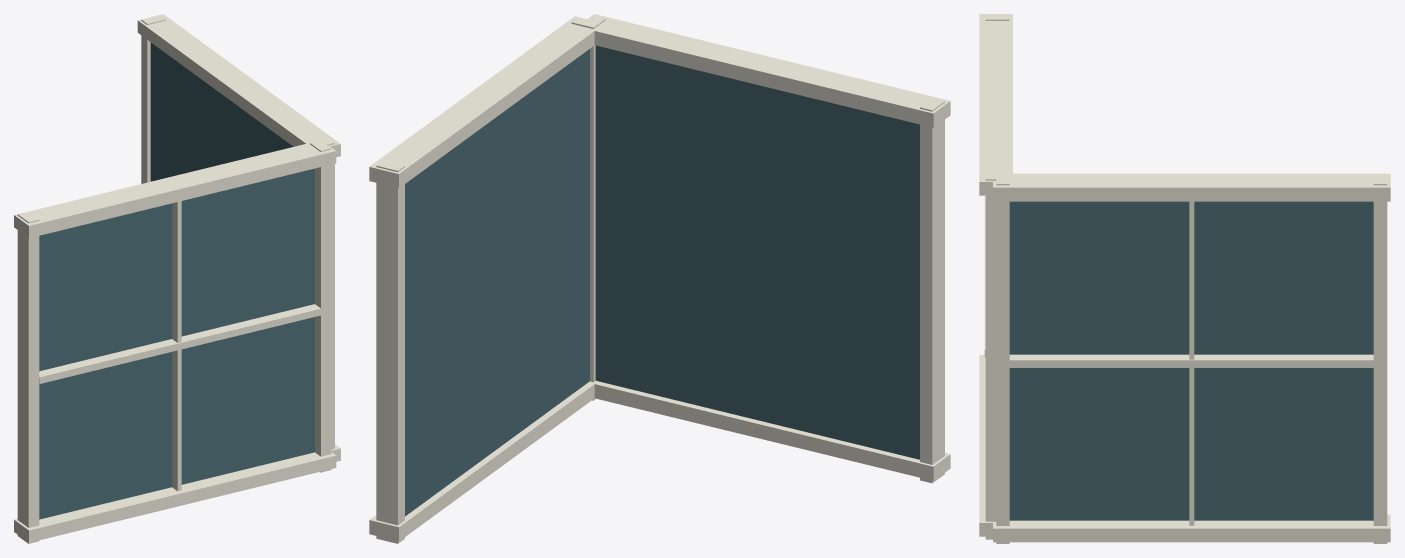
The picture shows the model from 3 angles, left to right: view 1: azimuth 30°, elevation 25°; view 2: azimuth 150°, elevation 25°; view 3: azimuth 270°, elevation 25°; orthographic projection. The views are drawn at different scales.
Parts seen in each view (by area): view 1: QH-A0099_V01_geometry; view 2: QH-A0099_V01_geometry; view 3: QH-A0099_V01_geometry.
Boxes of the visible parts, box(x1,y1,x2,y2) form: QH-A0099_V01_geometry: box(14, 14, 340, 543); QH-A0099_V01_geometry: box(369, 14, 950, 543); QH-A0099_V01_geometry: box(979, 14, 1390, 543).
Size of the model in its own units: 2.71 by 2.62 by 2.71.
